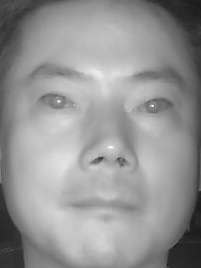eye: (34, 89, 80, 116), (132, 95, 177, 120)
mouth: (62, 183, 144, 227)
